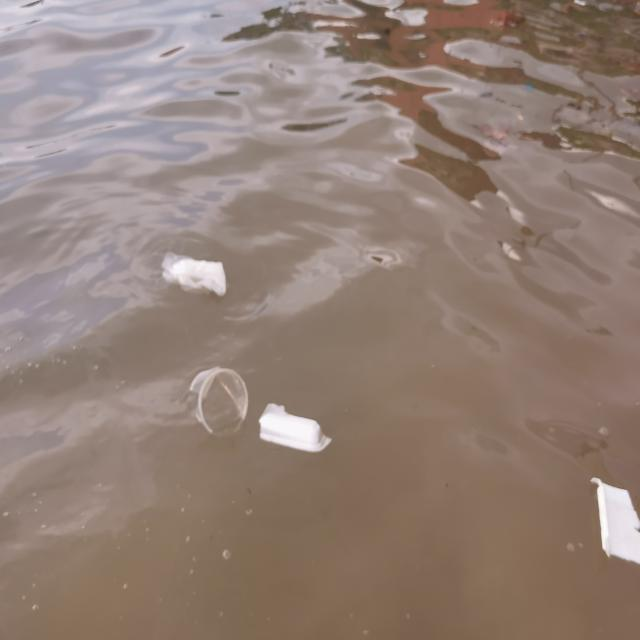foam: (591, 475, 640, 575), (260, 400, 336, 462)
